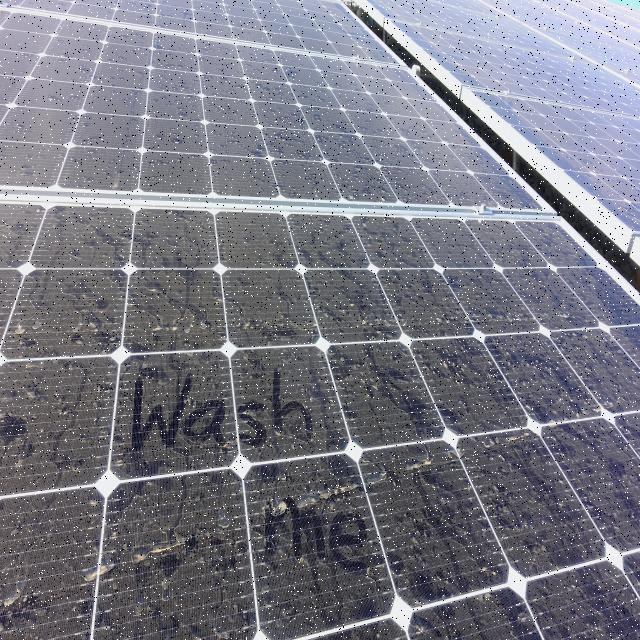dusty: (8, 211, 560, 640), (1, 23, 516, 206)
